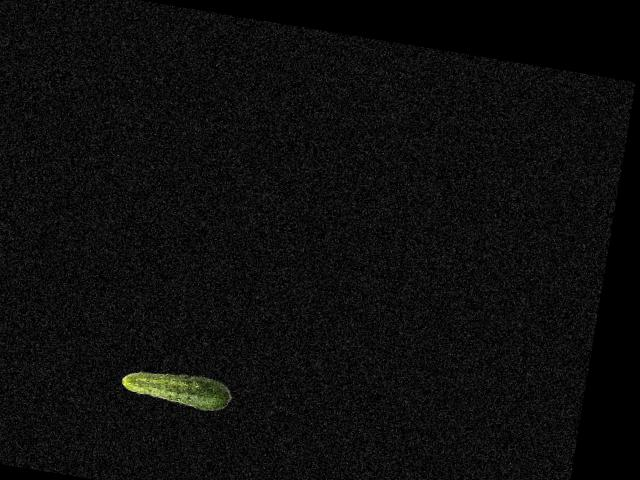cucumber: (120, 362, 235, 414)
